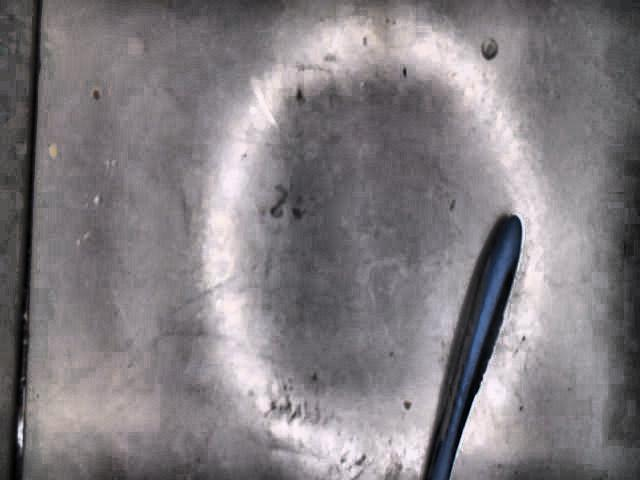Plastic: (424, 217, 522, 480)
